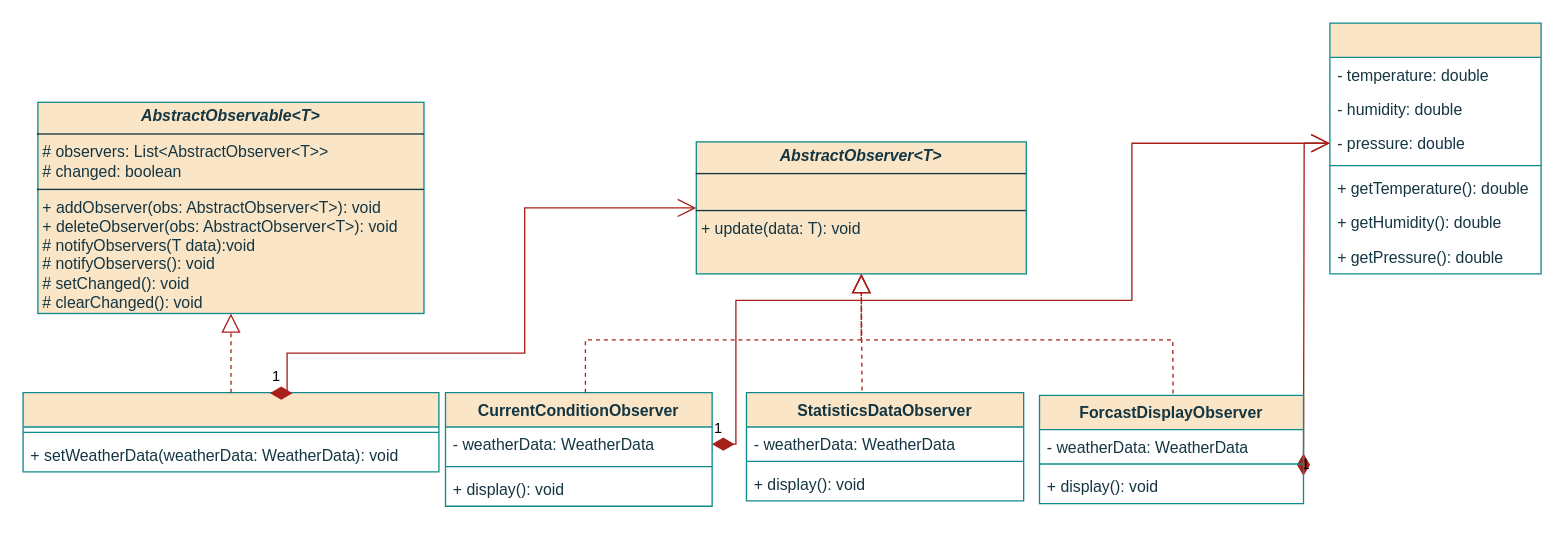
This 1564x533 diagram has some shape labels left out. The shapes that lost their labels are listed below. From the top down, each one's box as (x1, y1, x2, y2) in pixels, then its label:
(1329, 22, 1541, 274): WeatherData
(22, 391, 439, 472): WeatherDataObservable
